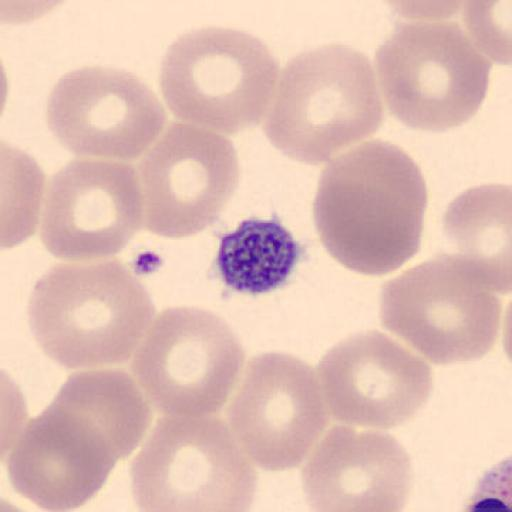Platelet: (210, 212, 308, 298)
RBC: (310, 137, 430, 280), (266, 41, 385, 165), (377, 251, 503, 367), (26, 258, 156, 370), (130, 302, 248, 422), (158, 24, 281, 137), (373, 18, 492, 134), (128, 412, 259, 512), (226, 348, 330, 473), (134, 121, 242, 241), (316, 326, 435, 432), (45, 64, 167, 162), (5, 404, 114, 511), (39, 155, 144, 262), (300, 424, 415, 512), (48, 366, 152, 462), (441, 180, 512, 276), (2, 140, 44, 251), (461, 0, 512, 66), (0, 366, 30, 472), (0, 0, 78, 37), (378, 0, 471, 21), (1, 0, 75, 25), (499, 281, 512, 368), (0, 48, 10, 131)
